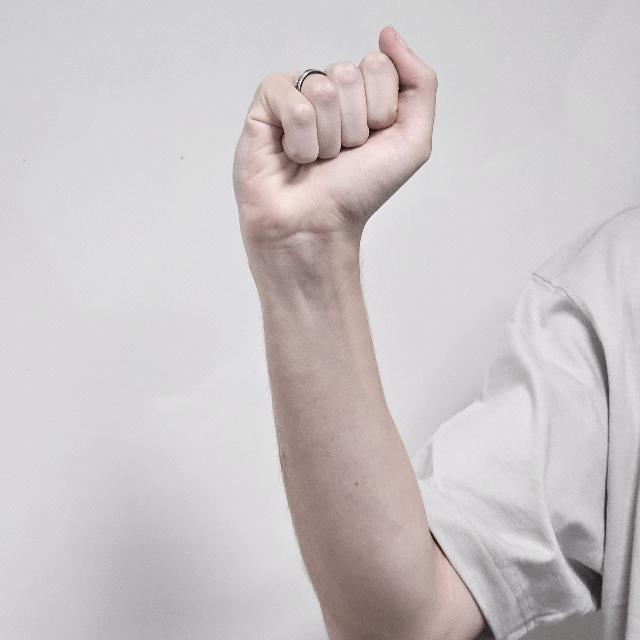Quadro: (232, 28, 438, 260)
